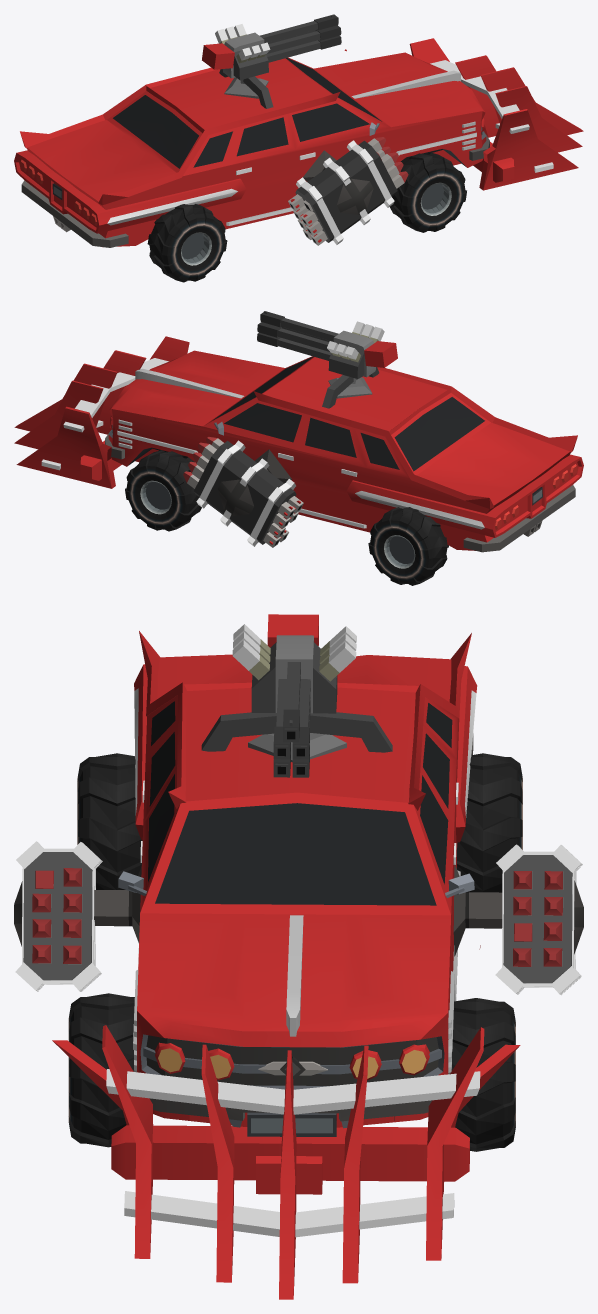
The model's file is car_(7).fbx.
3 views of the same model, one above another, from view 1: azimuth 30°, elevation 25°; view 2: azimuth 150°, elevation 25°; view 3: azimuth 270°, elevation 25° (orthographic). The views are drawn at different scales.
Visible parts, largest first — view 1: Car.001_Circle.000_Glass_0.002, Car.001_Circle.000_Glass_0.001, gun.001, Wheel_FR_5_Eagle_0.002, Wheel_FR_5_Eagle_0.001, Car.001_Circle.000_Glass_0.003; view 2: Car.001_Circle.000_Glass_0.002, Car.001_Circle.000_Glass_0.001, gun.001, Wheel_FR_5_Eagle_0.004, Wheel_FR_5_Eagle_0.003, Car.001_Circle.000_Glass_0.003; view 3: Car.001_Circle.000_Glass_0.002, Car.001_Circle.000_Glass_0.001, gun.001, Wheel_FR_5_Eagle_0.002, Wheel_FR_5_Eagle_0.004, Wheel_FR_5_Eagle_0.001, Wheel_FR_5_Eagle_0.003, Car.001_Circle.000_Glass_0.003.
Boxes of the visible parts, x1,y1,x2,y2 form: Car.001_Circle.000_Glass_0.002: [14, 49, 489, 247]; Car.001_Circle.000_Glass_0.001: [409, 38, 583, 190]; gun.001: [202, 14, 341, 80]; Wheel_FR_5_Eagle_0.002: [147, 204, 227, 282]; Wheel_FR_5_Eagle_0.001: [390, 152, 466, 232]; Car.001_Circle.000_Glass_0.003: [219, 69, 273, 108]; Car.001_Circle.000_Glass_0.002: [105, 350, 583, 552]; Car.001_Circle.000_Glass_0.001: [14, 336, 189, 488]; gun.001: [257, 311, 397, 378]; Wheel_FR_5_Eagle_0.004: [368, 507, 448, 585]; Wheel_FR_5_Eagle_0.003: [125, 450, 201, 531]; Car.001_Circle.000_Glass_0.003: [322, 367, 379, 408]; Car.001_Circle.000_Glass_0.002: [14, 631, 583, 1194]; Car.001_Circle.000_Glass_0.001: [52, 1025, 520, 1299]; gun.001: [232, 614, 356, 777]; Wheel_FR_5_Eagle_0.002: [77, 753, 142, 889]; Wheel_FR_5_Eagle_0.004: [457, 753, 522, 892]; Wheel_FR_5_Eagle_0.001: [68, 993, 134, 1147]; Wheel_FR_5_Eagle_0.003: [451, 998, 515, 1151]; Car.001_Circle.000_Glass_0.003: [201, 712, 392, 762].
Bounding box in the file's own units: 476 × 167 × 230.
5 materials, 5 textured.
